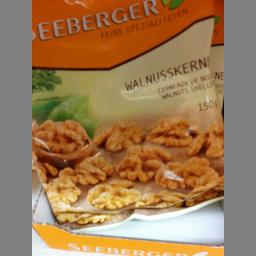nuts: (31, 0, 223, 229)
